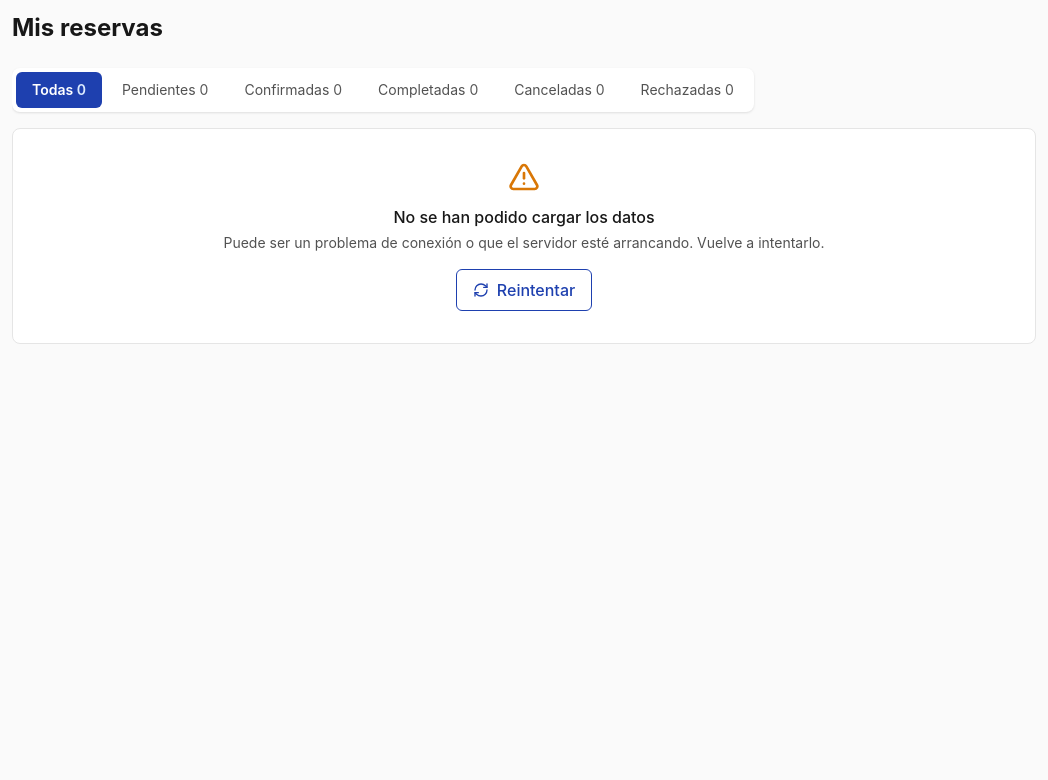
Scenario: Mis reservas › si falla la carga, no dice que no hay reservas y deja reintentar
expect the message shows "No se han podido cargar los datos": met, box 393,207 -> 655,227
Click the button "Reintentar": (524, 290) 456,269 -> 592,311
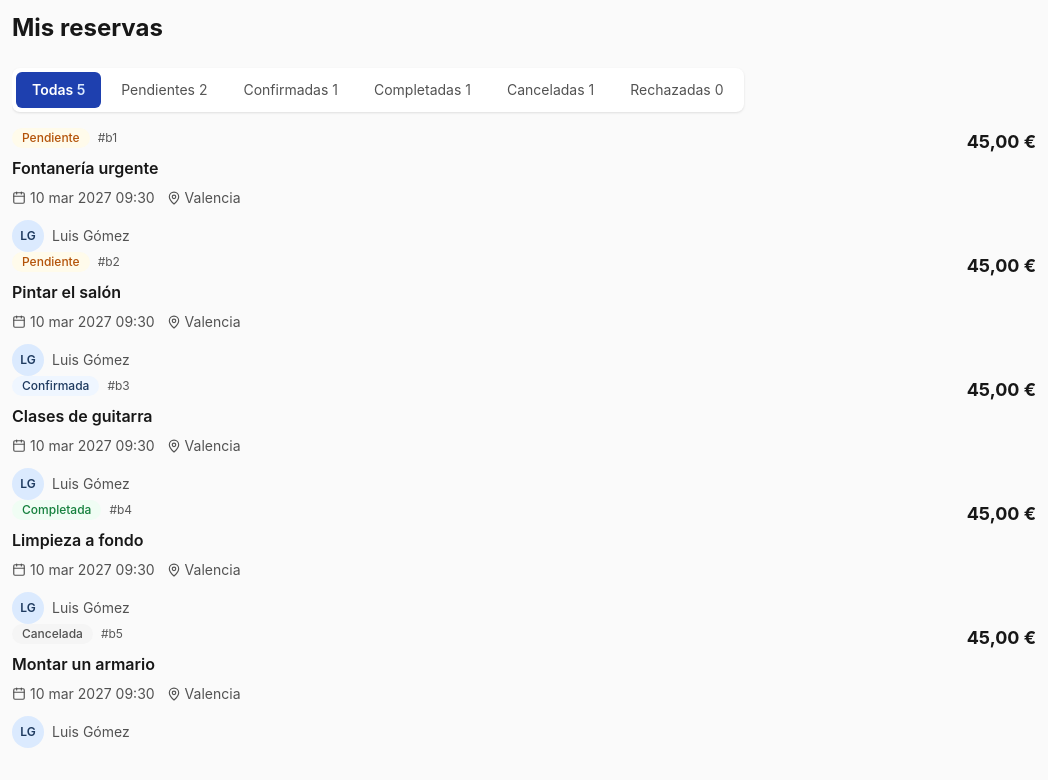
expect the heading "Fontanería urgente" is shown: met, box 12,158 -> 158,178
